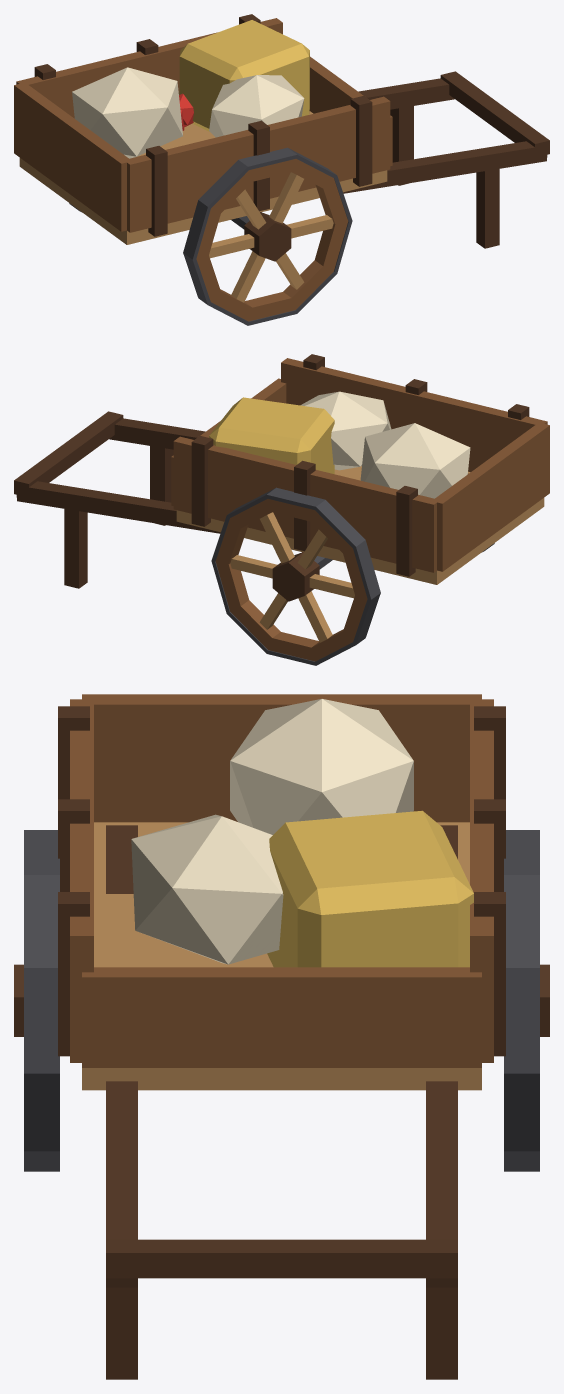
Rendered from Karren.fbx.
The picture shows the model from 3 angles, top to bottom: view 1: azimuth 30°, elevation 25°; view 2: azimuth 150°, elevation 25°; view 3: azimuth 270°, elevation 25°; orthographic projection. The views are drawn at different scales.
Visible parts, largest first — view 1: Karren; view 2: Karren; view 3: Karren.
Boxes of the visible parts, x1,y1,x2,y2 form: Karren: (14,14,549,325); Karren: (14,354,549,665); Karren: (14,694,549,1379).
Size of the model in its own units: 2.34 by 1.09 by 1.34.
